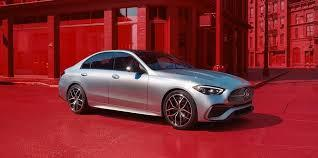mercedes: (242, 90, 252, 100)
